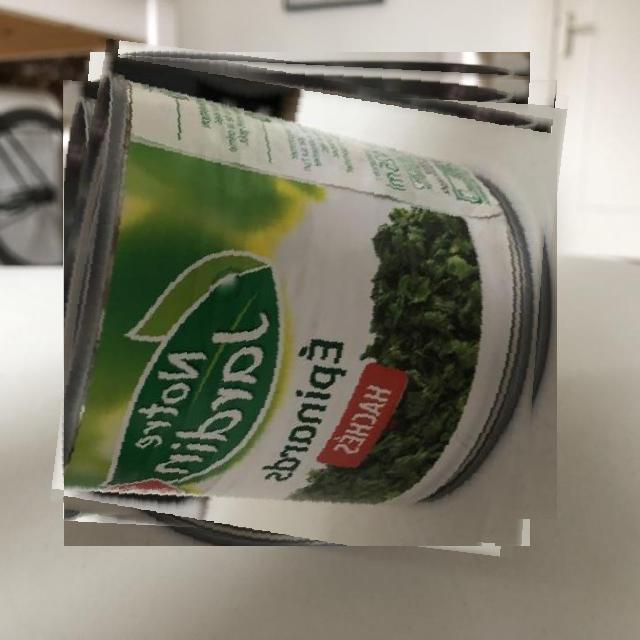recyclable: (64, 52, 556, 546)
